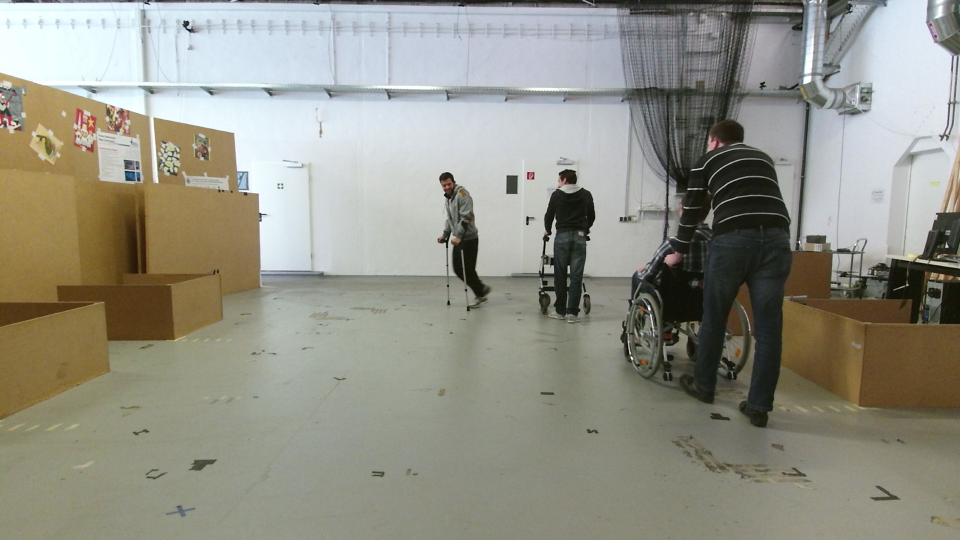crutches: (434, 168, 493, 314)
